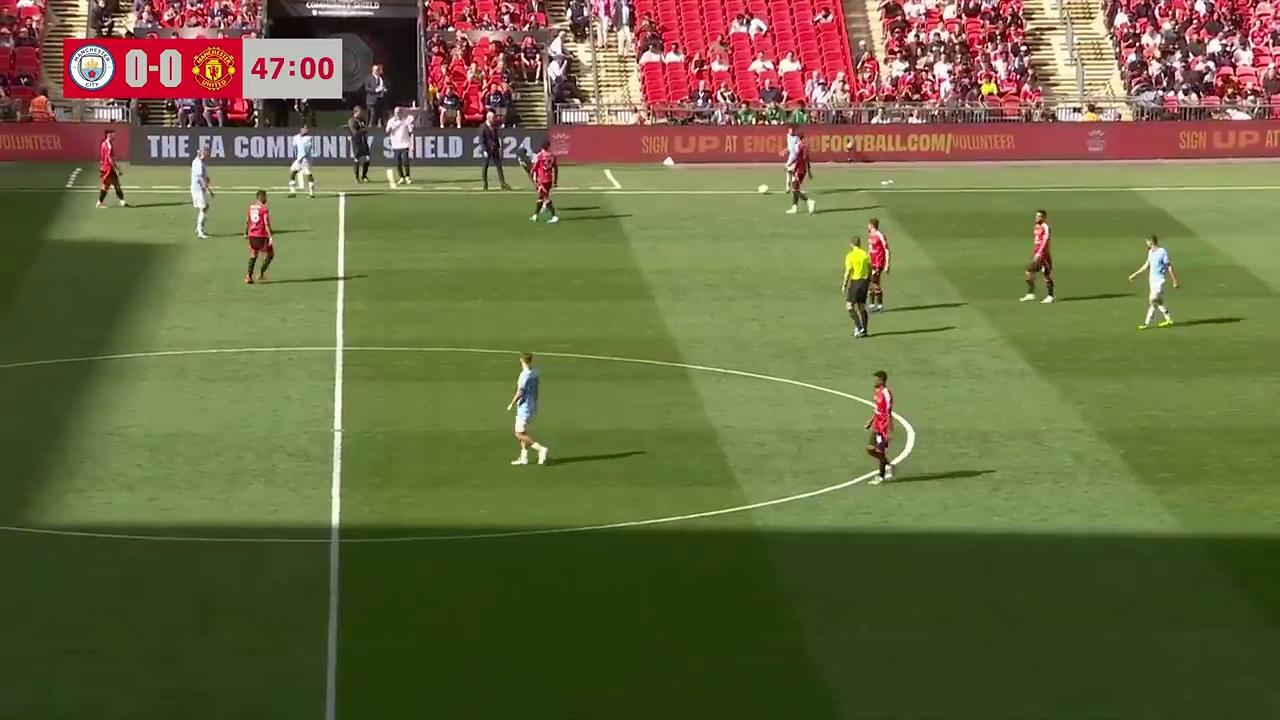ball: (755, 181, 769, 195)
player: (863, 370, 914, 482), (1128, 235, 1178, 329), (506, 352, 547, 466), (1020, 210, 1054, 303), (243, 190, 275, 285), (785, 140, 817, 215), (95, 136, 126, 208), (190, 150, 215, 238), (288, 122, 315, 199), (866, 219, 890, 305), (529, 153, 558, 222), (780, 122, 807, 190)
referee: (841, 237, 877, 339)
